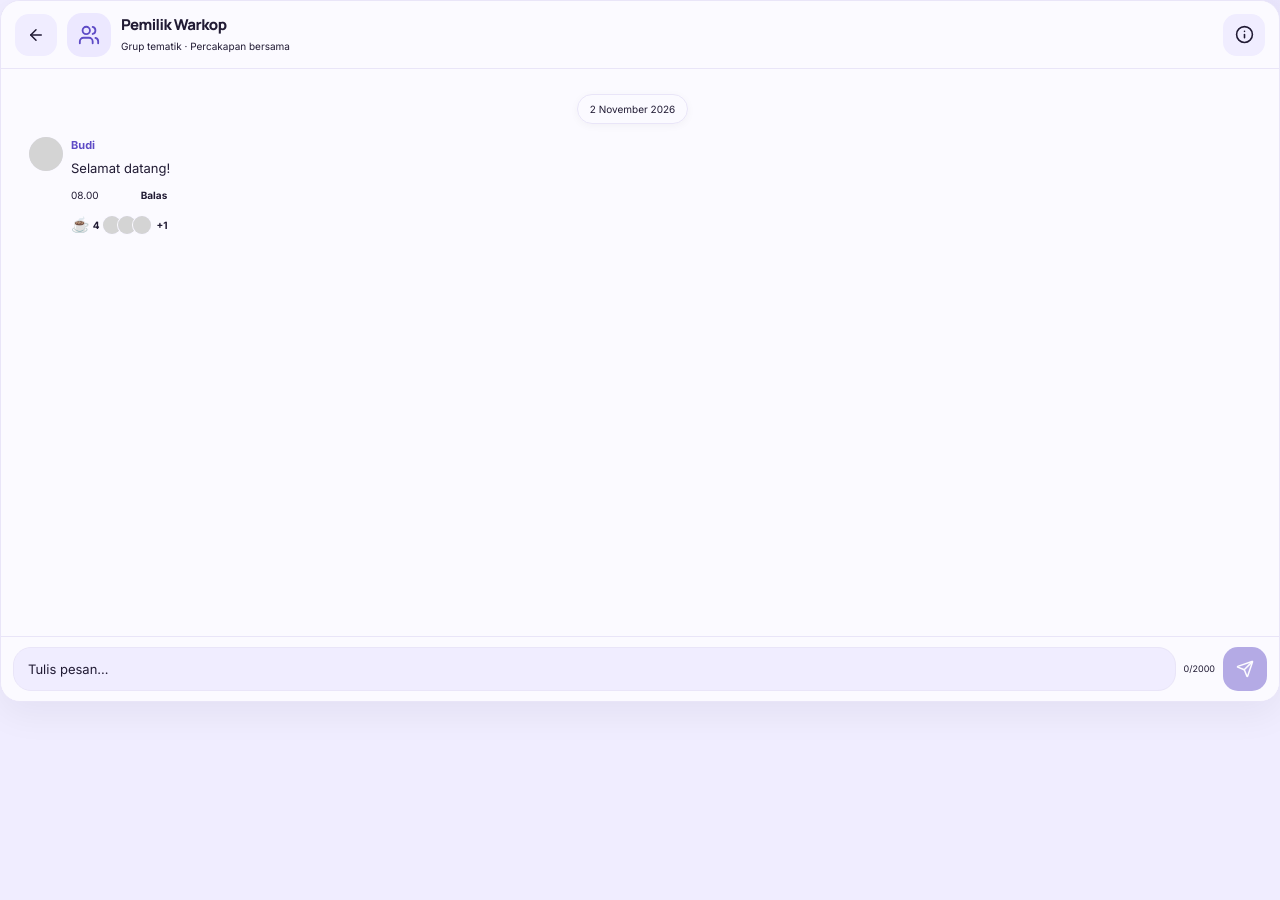
Test: thematic group conversation › shows reaction avatars without emoji bubbles and opens the member list
This screenshot has width=1280, height=900.
Expected: the text "Selamat datang!" is shown, [71,158,170,179]
Expected: the text "+1" is shown, [156,217,168,233]
Click the button "☕ 4" at (85,225), box [71,213,100,237]
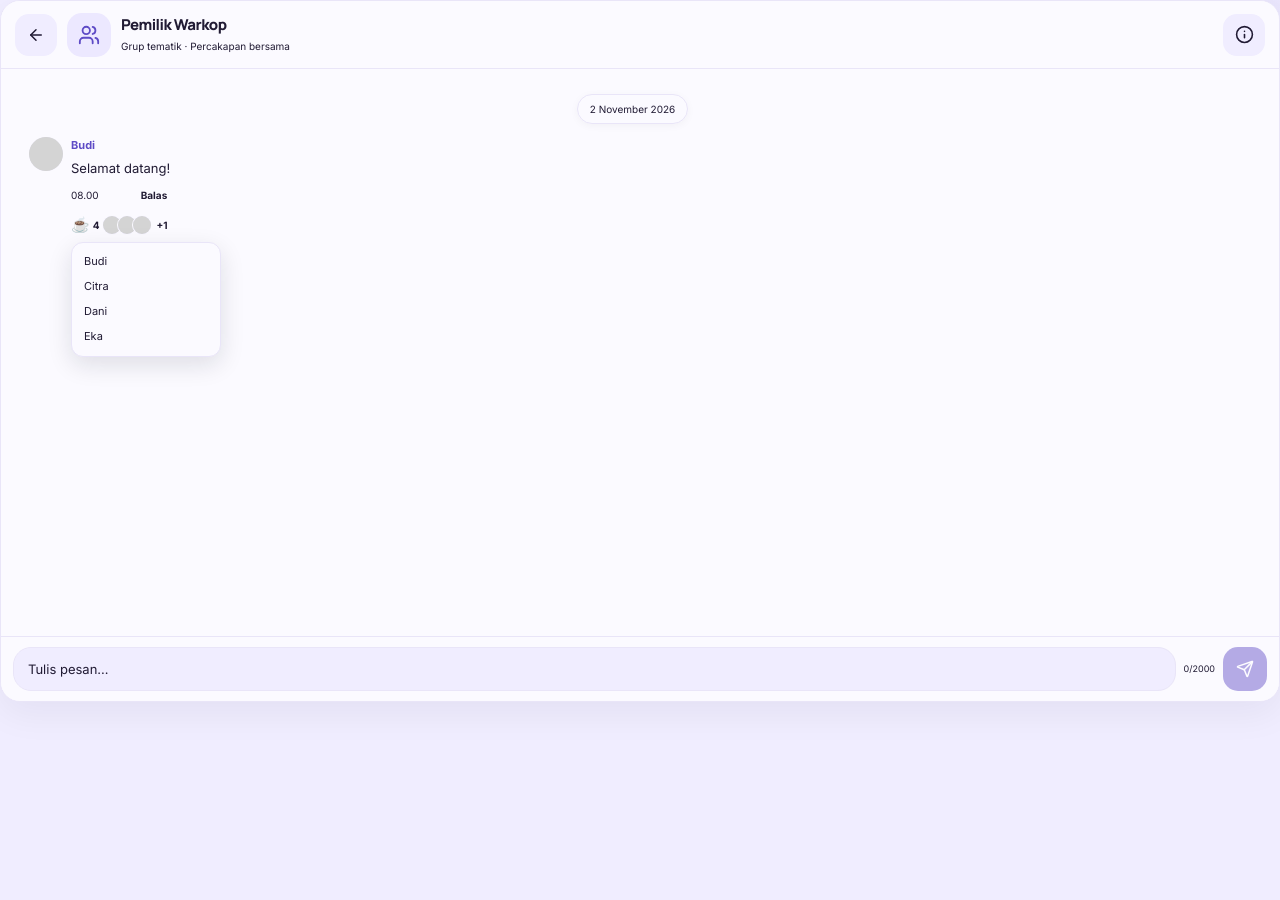
Now the text "Citra" is shown, box [84,279,109,293]
Now the text "Eka" is shown, box [84,329,103,343]
Click the button "+1" at (135,225), box [102,213,168,237]
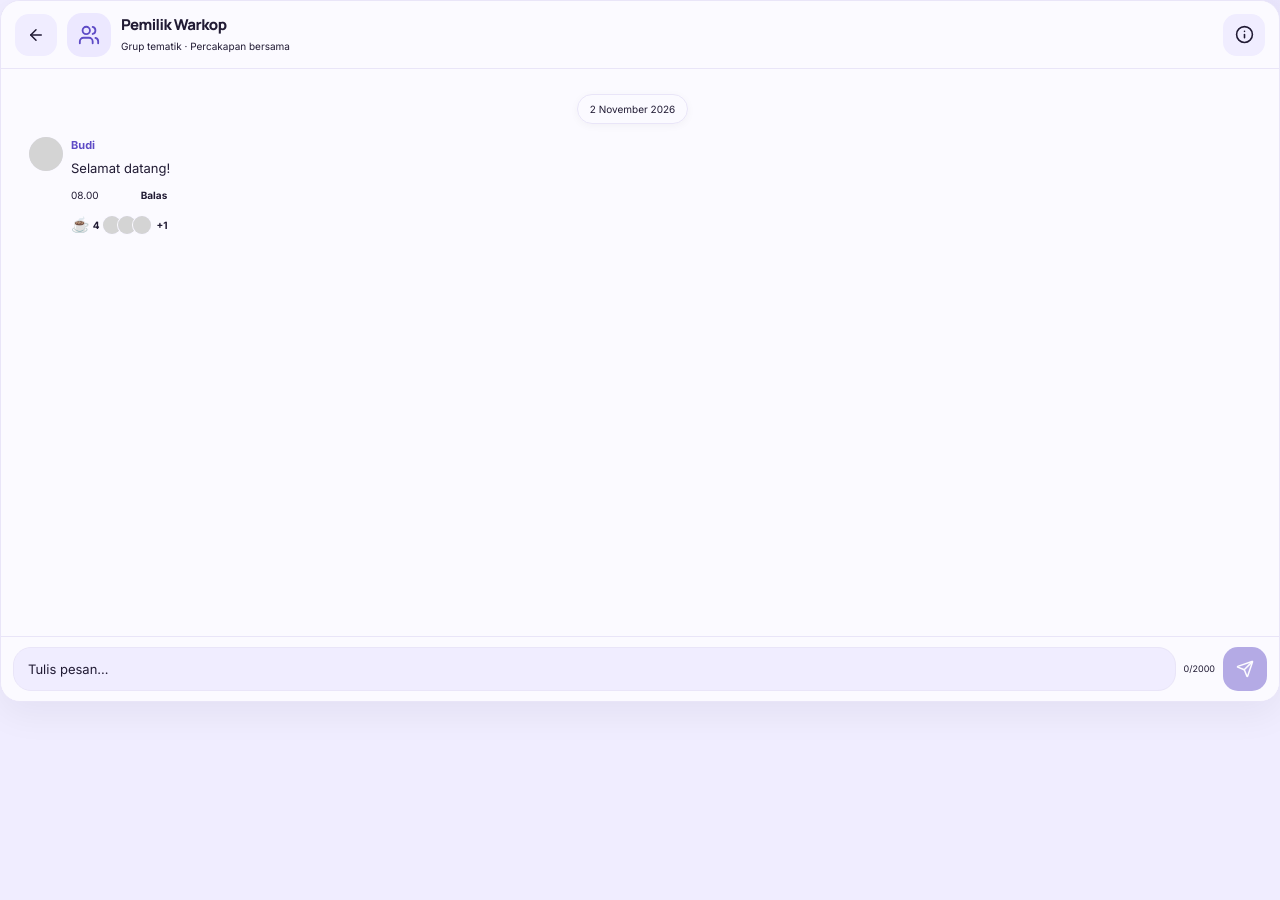
Click the button "+1" at (135,225), box [102,213,168,237]
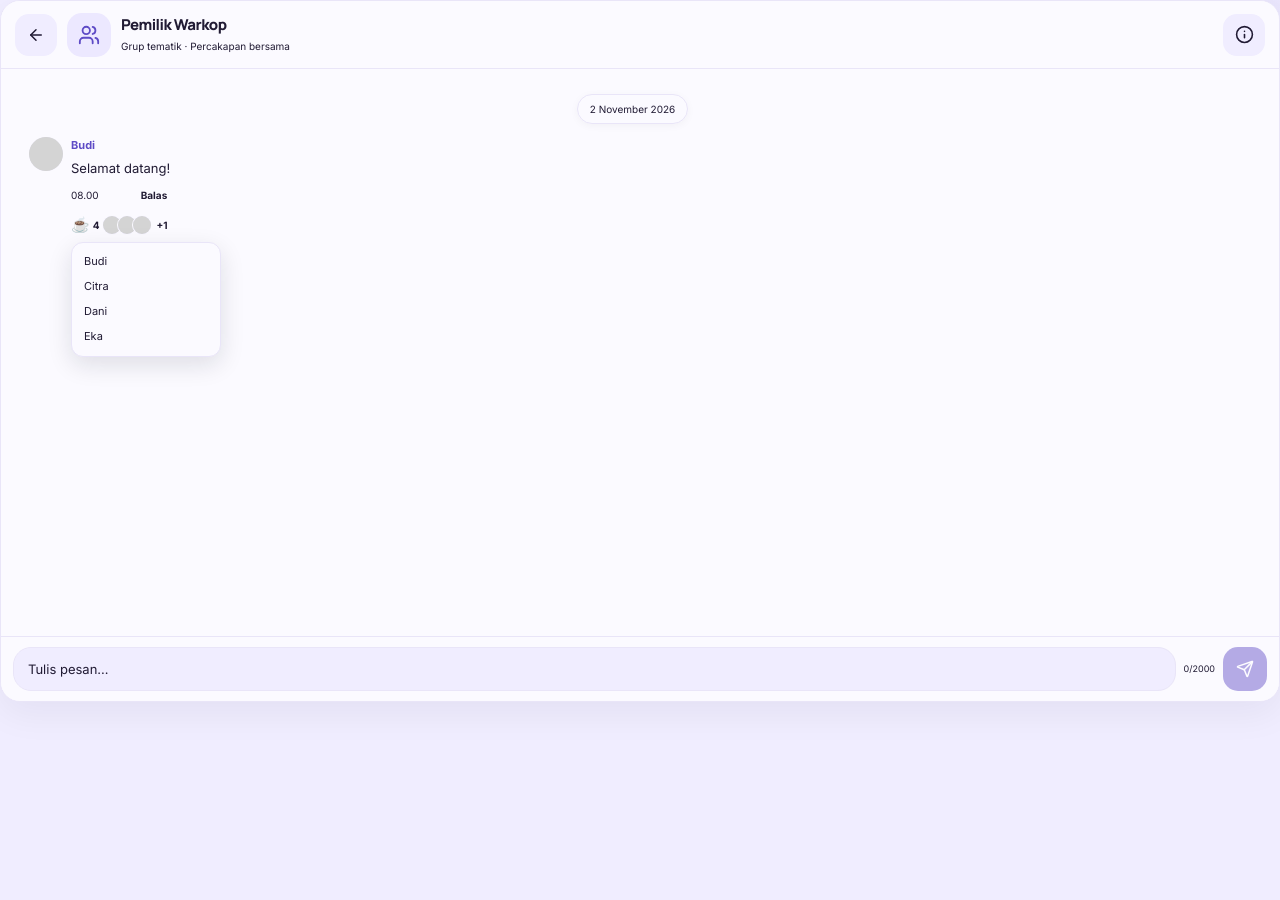
Expected: the button "☕ 4" is shown, [71,213,100,237]
Now the element named "Anggota yang bereaksi: Gas Ngopi" is shown, box [71,242,221,357]
